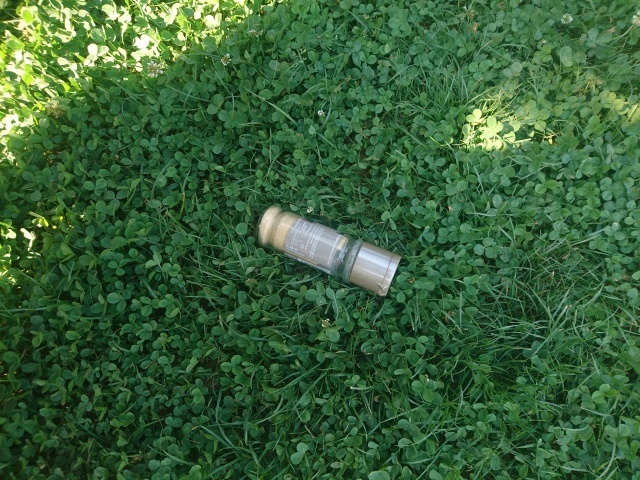Kotanyi Garlic Granules 70g: (252, 202, 404, 300)
